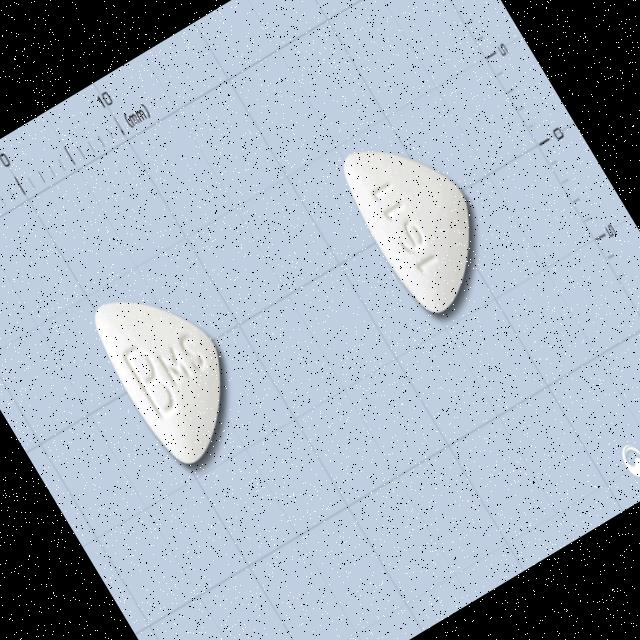Amocla Duo: (330, 113, 512, 324), (84, 264, 264, 473)
